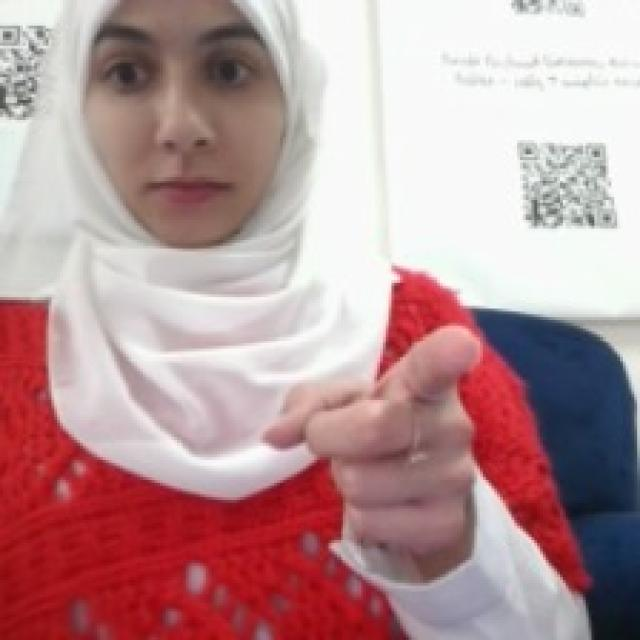you: (254, 312, 489, 594)
